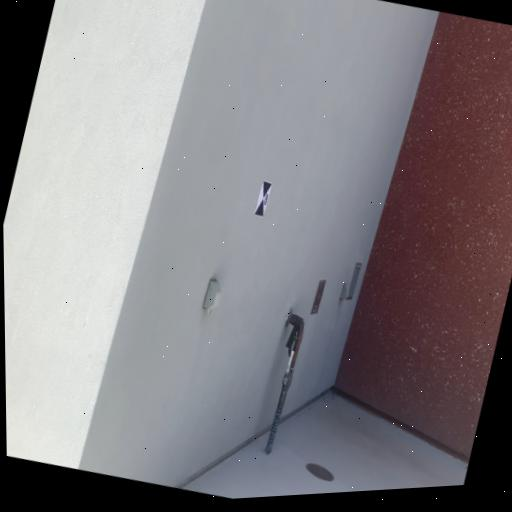target8: (253, 180, 273, 217)
